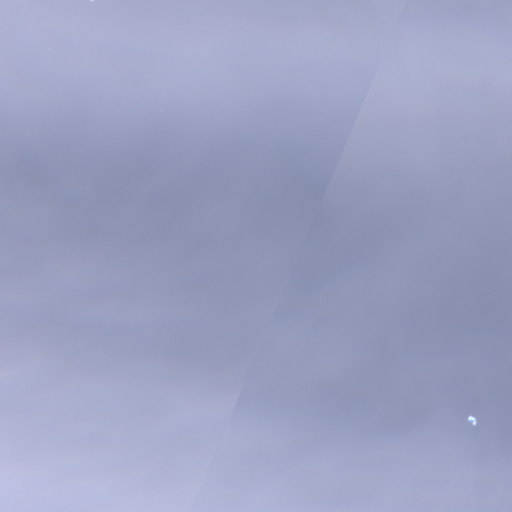Iceberg: (468, 416, 476, 425)
